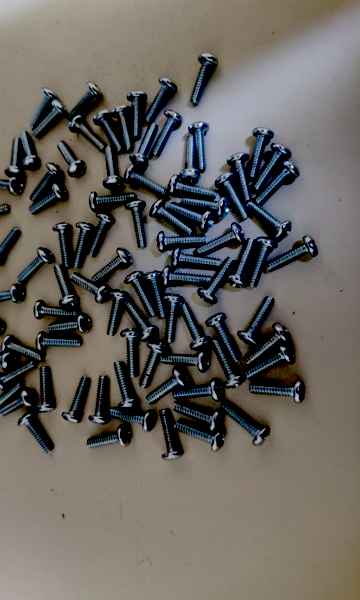shortscrew: (221, 403, 271, 447), (255, 159, 300, 207), (244, 324, 293, 367), (238, 296, 277, 347), (253, 143, 293, 192), (266, 236, 319, 271), (198, 257, 237, 304), (212, 337, 246, 390), (245, 344, 296, 379), (206, 313, 241, 364), (215, 172, 250, 222), (246, 202, 293, 239), (174, 420, 226, 453), (150, 199, 194, 237), (197, 223, 246, 257), (144, 77, 178, 125), (17, 412, 54, 455), (226, 239, 258, 288), (173, 402, 225, 432), (92, 247, 134, 284), (190, 53, 219, 106), (248, 237, 278, 288), (152, 109, 183, 158), (124, 271, 157, 317), (124, 301, 160, 343), (139, 341, 169, 390), (32, 99, 69, 138), (124, 165, 168, 197), (69, 115, 107, 152), (61, 376, 90, 424), (18, 247, 55, 284), (68, 82, 103, 121), (70, 273, 114, 304), (250, 380, 306, 404), (87, 212, 116, 258), (30, 163, 63, 203), (94, 111, 125, 153), (248, 128, 274, 178), (109, 405, 157, 432), (130, 123, 160, 166), (168, 203, 214, 231), (28, 183, 68, 215), (160, 410, 185, 461), (28, 88, 58, 130), (112, 361, 137, 411), (227, 152, 251, 203), (1, 335, 44, 363), (161, 350, 210, 374), (173, 379, 224, 402), (142, 271, 166, 319), (120, 329, 143, 379), (57, 140, 87, 178), (0, 388, 38, 418), (88, 376, 111, 425), (0, 360, 36, 391), (157, 231, 206, 253), (55, 265, 80, 308), (172, 248, 223, 269), (73, 222, 96, 268), (87, 425, 133, 448), (183, 196, 231, 218), (189, 122, 210, 172), (163, 266, 213, 287), (107, 290, 129, 337), (35, 367, 57, 413), (126, 200, 147, 248), (127, 91, 148, 139), (103, 146, 125, 190), (52, 223, 73, 268), (181, 136, 201, 183), (0, 381, 25, 418), (90, 192, 136, 212), (113, 105, 133, 151), (49, 314, 92, 335), (20, 131, 42, 171), (34, 300, 79, 319), (35, 332, 82, 350), (0, 228, 21, 268), (4, 138, 25, 176), (0, 284, 26, 305), (0, 177, 25, 196), (0, 347, 17, 371), (0, 204, 11, 225), (0, 312, 7, 337)
